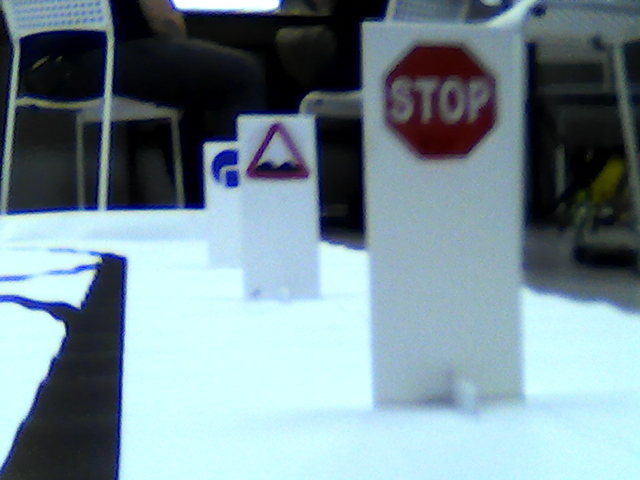Nerov: (244, 125, 312, 178)
Stop: (382, 44, 502, 163)
